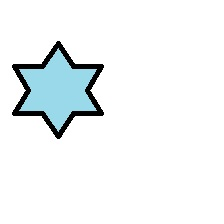star: (12, 41, 104, 139)
